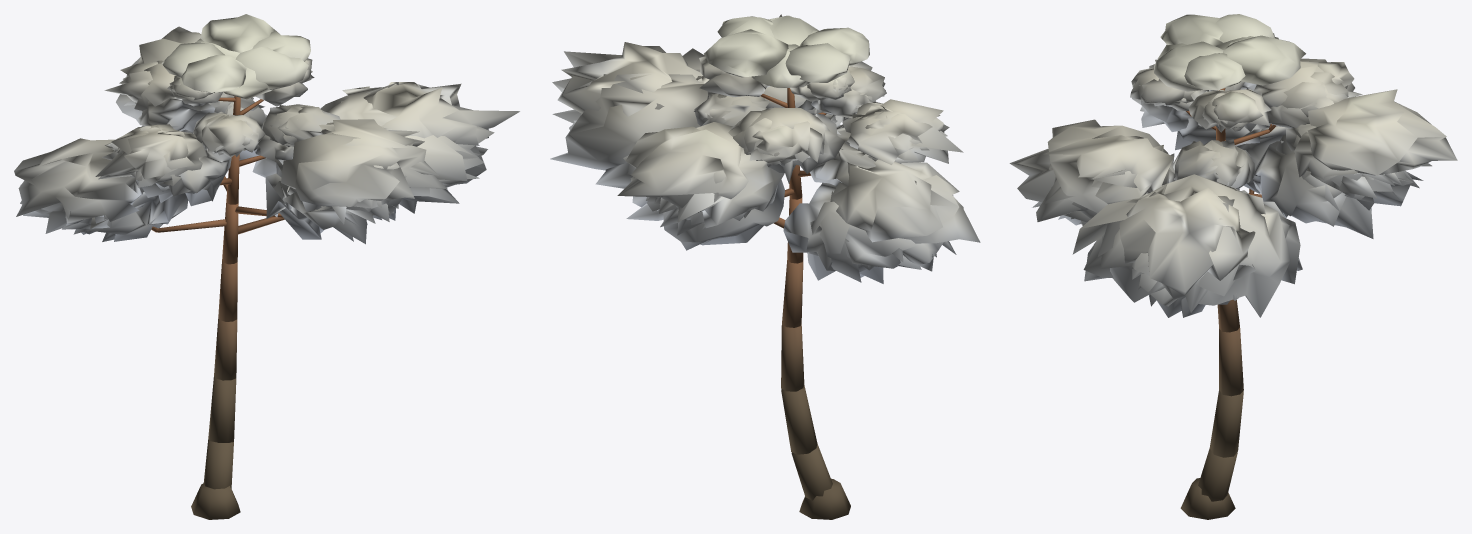
3 renders of one model, left to right at view 1: azimuth 30°, elevation 25°; view 2: azimuth 150°, elevation 25°; view 3: azimuth 270°, elevation 25°, orthographic. The views are drawn at different scales.
Visible parts, largest first — view 1: crown, trunk1, trunk2; view 2: crown, trunk1, trunk2; view 3: crown, trunk1, trunk2.
Part boxes in pixels (box(x1,y1,x2,y2)): crown: box(14, 14, 519, 244); trunk1: box(191, 317, 240, 519); trunk2: box(151, 96, 284, 321); crown: box(550, 14, 980, 283); trunk1: box(781, 324, 850, 519); trunk2: box(760, 88, 826, 327); crown: box(1009, 14, 1457, 317); trunk1: box(1180, 328, 1243, 519); trunk2: box(1186, 88, 1276, 332).
Size of the model in its own units: 19.27 by 18.75 by 15.45.
